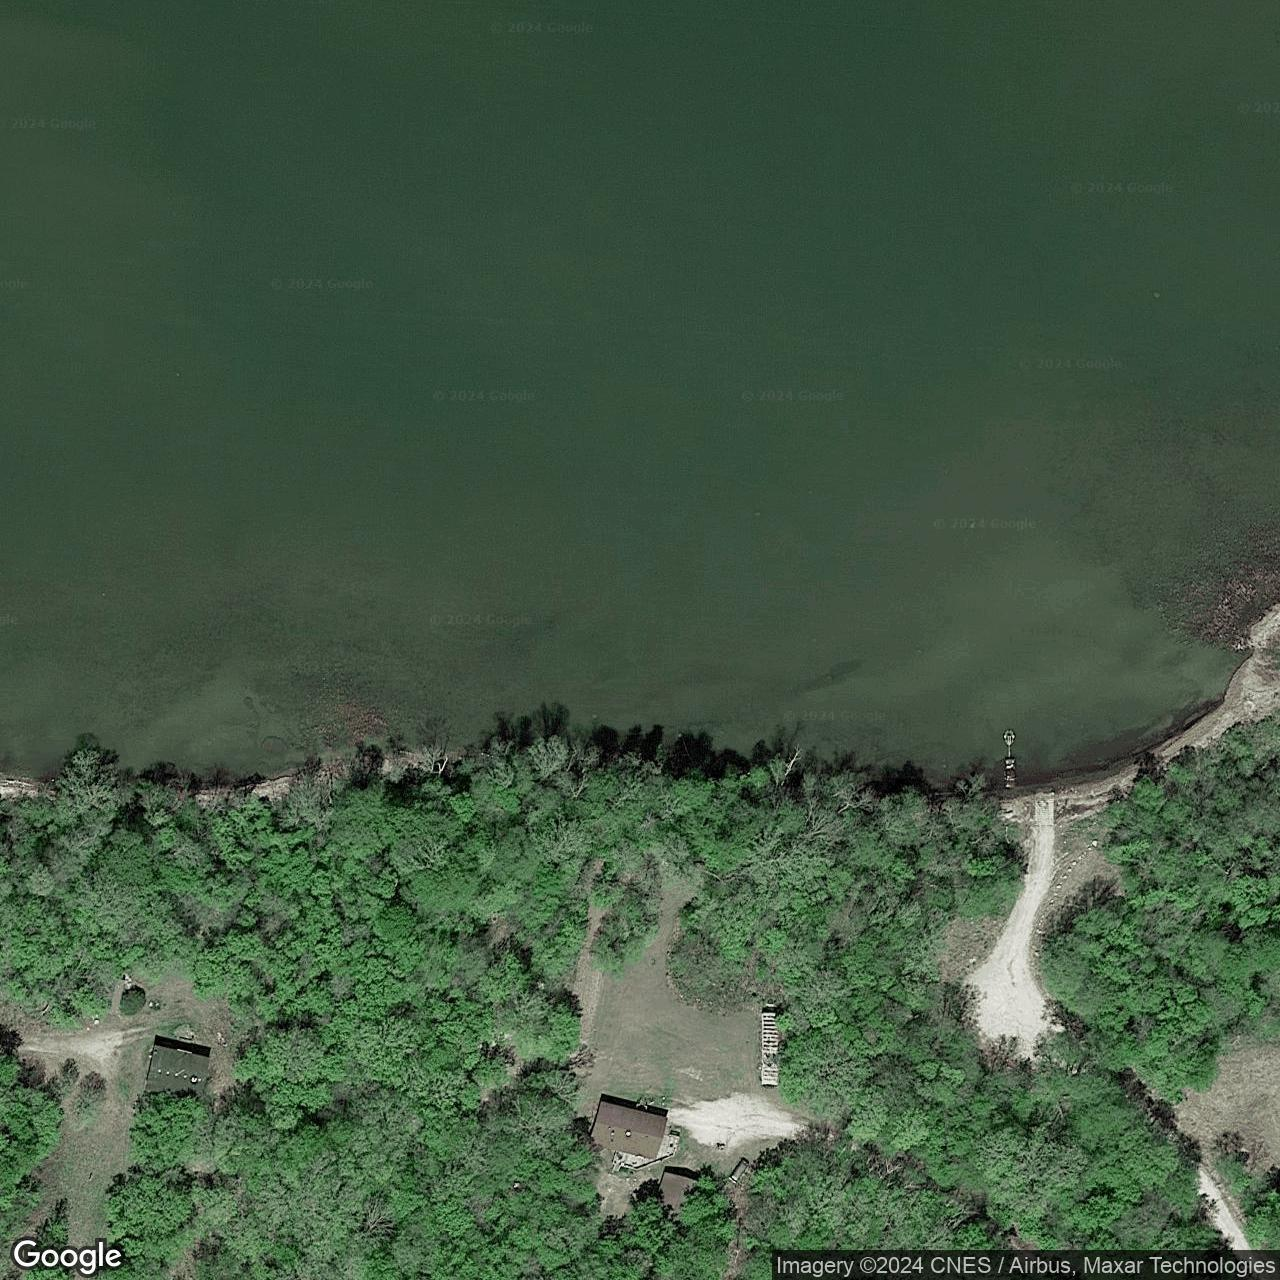Garage: (648, 1172, 702, 1226)
House: (587, 1098, 668, 1162), (143, 1044, 210, 1102)
Trailer: (761, 1012, 779, 1087)
